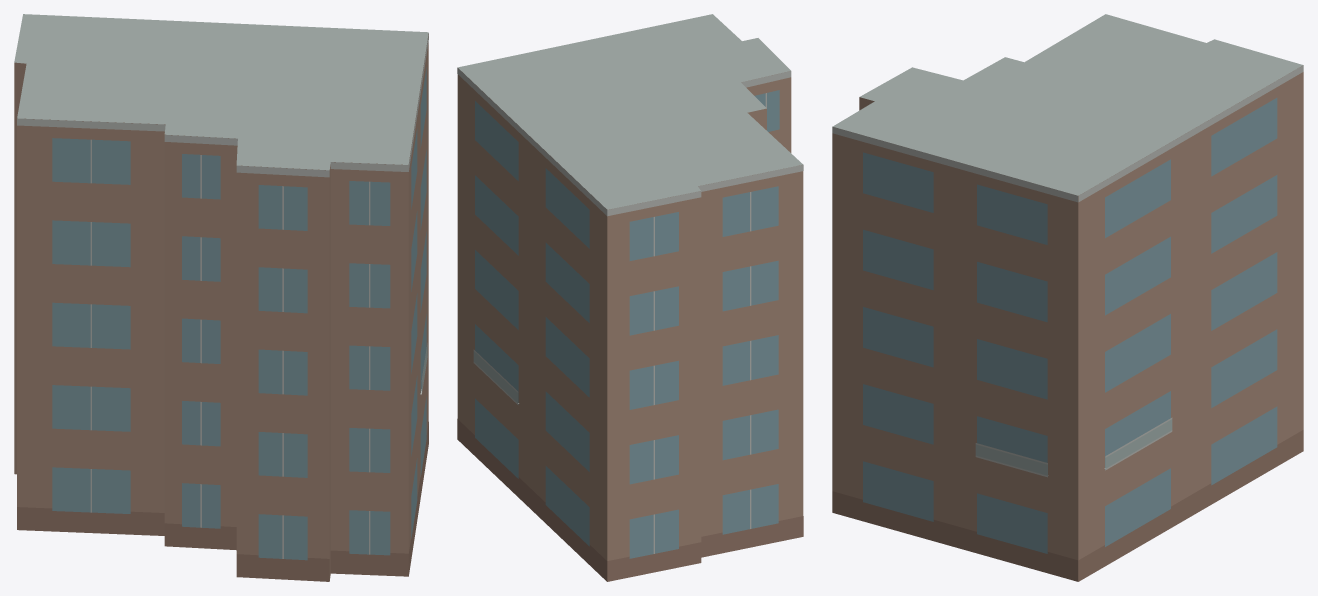
File: survey-upis-32700875.glb
3 renders of one model, left to right at view 1: azimuth 30°, elevation 25°; view 2: azimuth 150°, elevation 25°; view 3: azimuth 270°, elevation 25°, orthographic. The views are drawn at different scales.
Parts seen in each view (by area): view 1: survey-upis-32700875.tmp; view 2: survey-upis-32700875.tmp; view 3: survey-upis-32700875.tmp.
Boxes of the visible parts, <box> form: survey-upis-32700875.tmp: <box>14,14,428,581</box>; survey-upis-32700875.tmp: <box>457,14,803,581</box>; survey-upis-32700875.tmp: <box>832,14,1303,581</box>.
Size of the model in its own units: 14.25 by 14.1 by 15.6.
